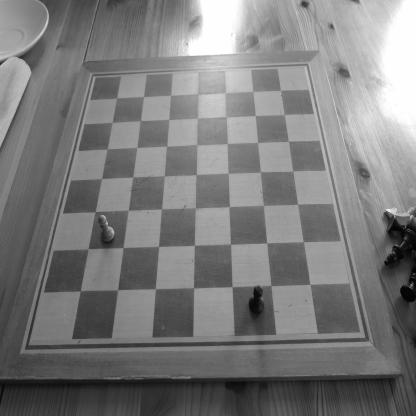black-bishop: (384, 228, 415, 267)
black-pawn: (248, 284, 265, 314)
white-pawn: (98, 215, 115, 242)
